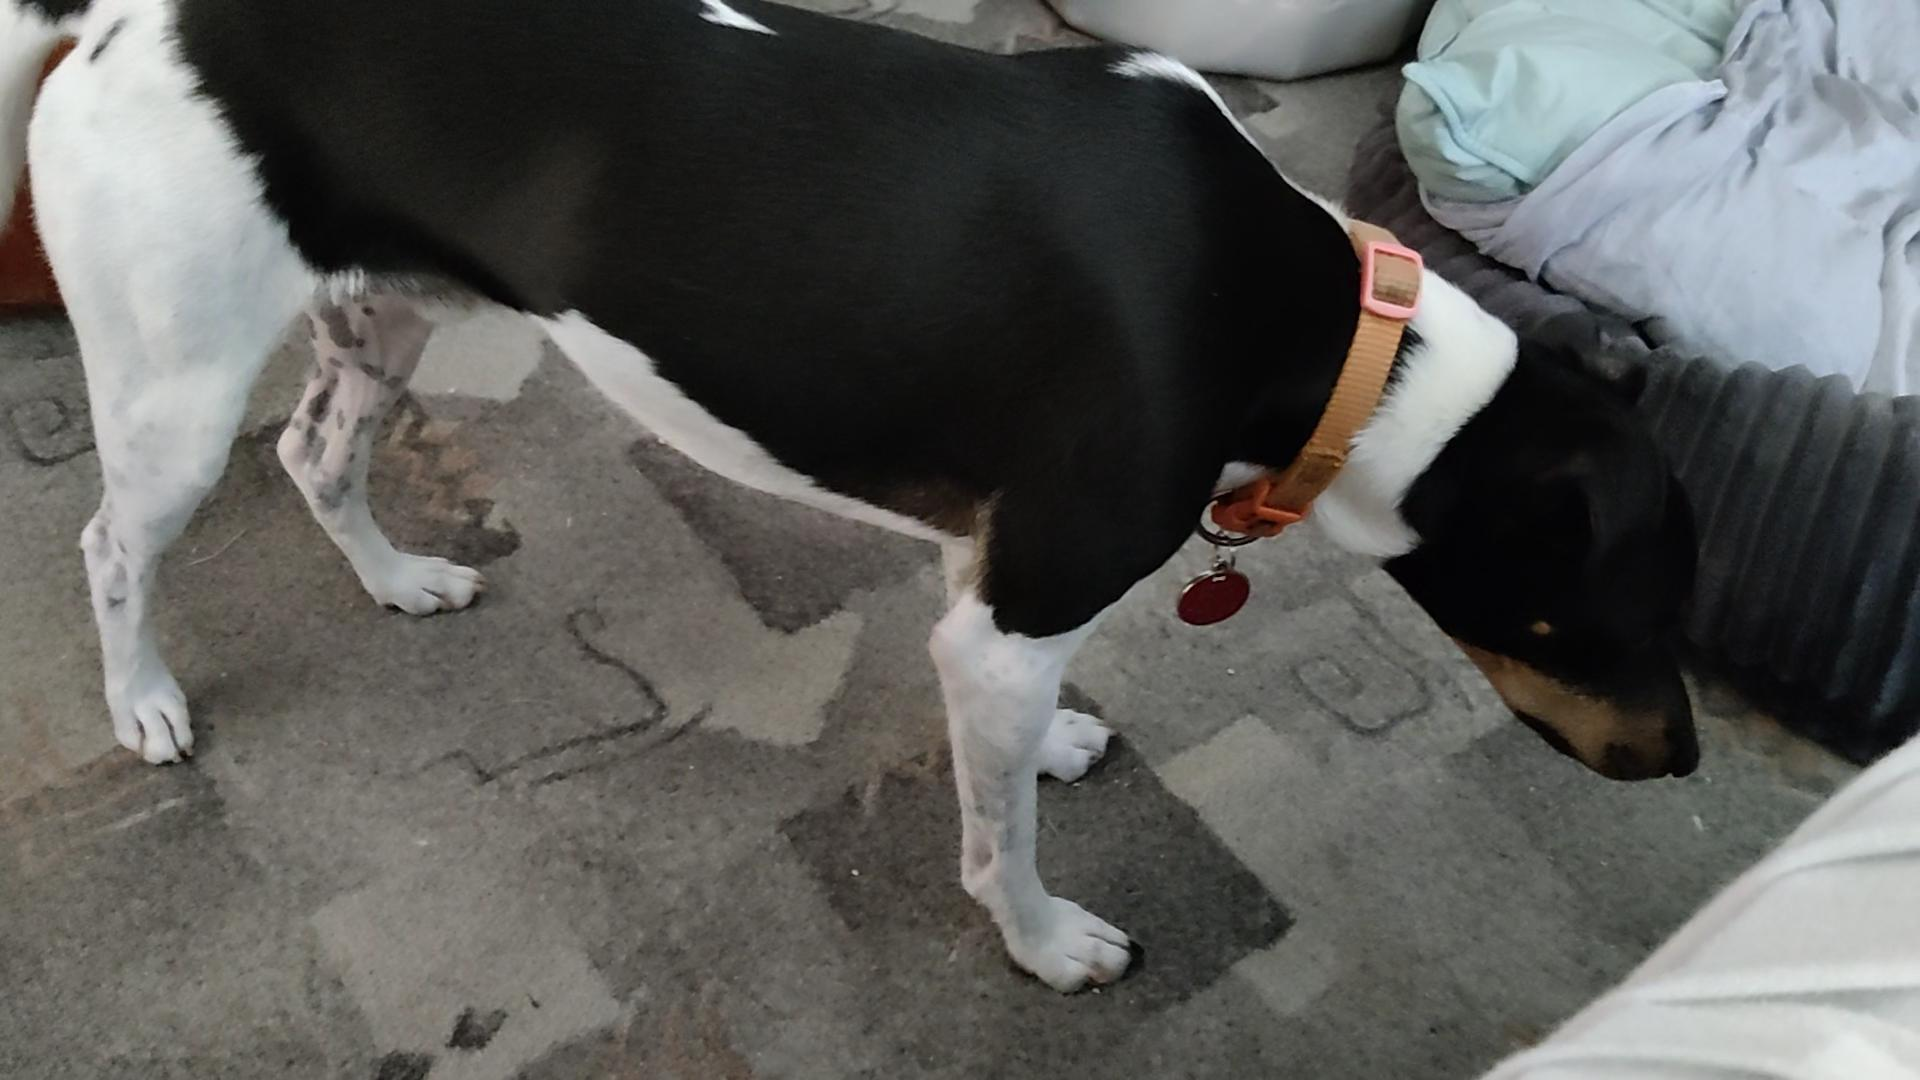Dog: (0, 0, 1739, 1009)
